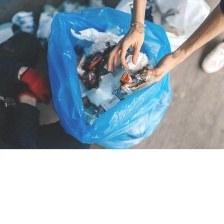plastic_bag: (44, 2, 175, 150)
